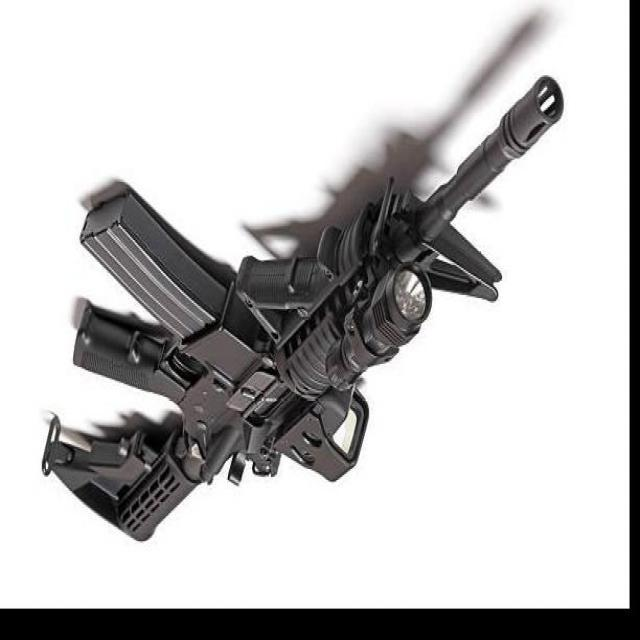weapon: (41, 75, 565, 542)
